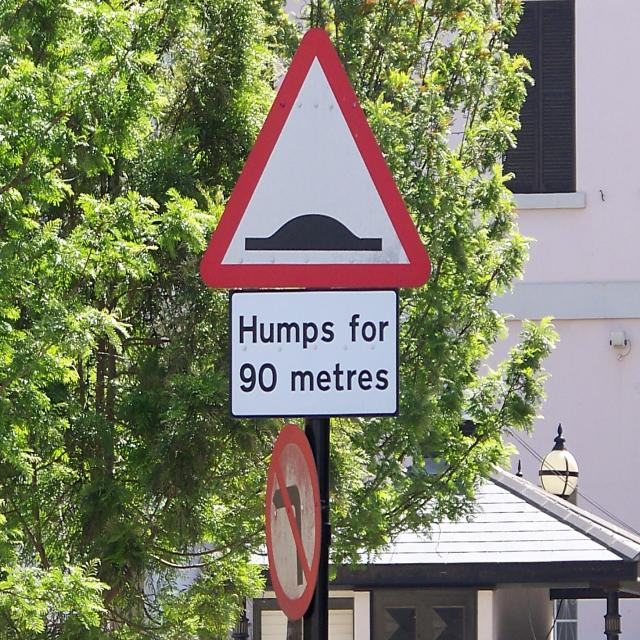hump: (194, 24, 437, 294)
